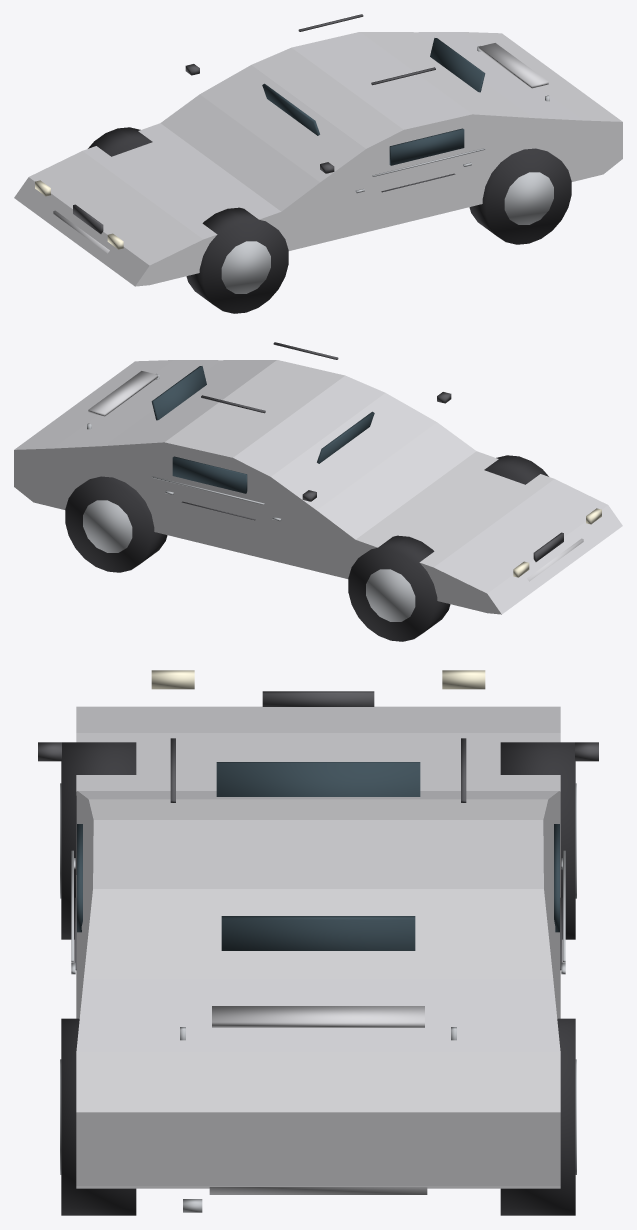
The model's file is race.glb.
3 renders of one model, top to bottom at view 1: azimuth 30°, elevation 25°; view 2: azimuth 150°, elevation 25°; view 3: azimuth 270°, elevation 25°, orthographic. The views are drawn at different scales.
Visible parts, largest first — view 1: body_main, wheel_front_r, wheel_rear_r, trim_rim__front_r, trim_rim__rear_r, glass_side_r, glass_rear, body_spoiler, wheel_front_l, glass_windshield; view 2: body_main, wheel_front_l, wheel_rear_l, trim_rim__front_l, trim_rim__rear_l, glass_side_l, glass_rear, body_spoiler, wheel_front_r, glass_windshield; view 3: body_main, glass_windshield, glass_rear, wheel_rear_l, wheel_rear_r, wheel_front_l, wheel_front_r, body_spoiler, trim_grille, body_bumper_rear, headlight_l, headlight_r.
Part boxes in pixels (x1,y1,x2,y2): body_main: (14, 32, 622, 286); wheel_front_r: (186, 207, 288, 313); wheel_rear_r: (469, 148, 571, 244); trim_rim__front_r: (221, 241, 270, 293); trim_rim__rear_r: (504, 172, 553, 224); glass_side_r: (389, 128, 464, 165); glass_rear: (430, 38, 485, 92); body_spoiler: (478, 43, 548, 88); wheel_front_l: (88, 127, 152, 156); glass_windshield: (262, 83, 319, 135); body_main: (14, 360, 622, 614); wheel_front_l: (348, 535, 450, 641); wheel_rear_l: (65, 476, 167, 572); trim_rim__front_l: (366, 569, 415, 621); trim_rim__rear_l: (83, 500, 132, 552); glass_side_l: (172, 456, 247, 493); glass_rear: (151, 366, 206, 420); body_spoiler: (88, 371, 158, 416); wheel_front_r: (484, 455, 548, 484); glass_windshield: (317, 411, 374, 463); body_main: (76, 706, 560, 1188); glass_windshield: (216, 762, 420, 796); glass_rear: (221, 916, 415, 950); wheel_rear_l: (500, 1018, 575, 1215); wheel_rear_r: (61, 1018, 136, 1215); wheel_front_l: (500, 742, 575, 939); wheel_front_r: (61, 742, 136, 939); body_spoiler: (212, 1006, 424, 1027); trim_grille: (262, 691, 374, 706); body_bumper_rear: (209, 1187, 427, 1194); headlight_l: (442, 670, 485, 689); headlight_r: (151, 670, 194, 689).
Bounding box in the file's own units: 4.75 × 1.58 × 2.34.
